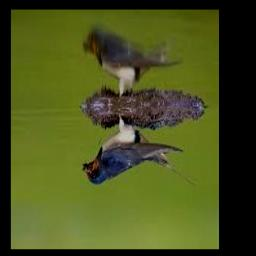Swallow: (83, 114, 198, 186)
